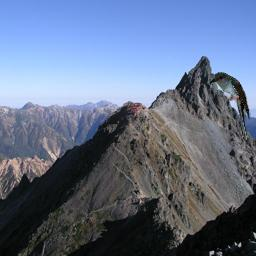Cuckoo: (209, 72, 251, 140)
